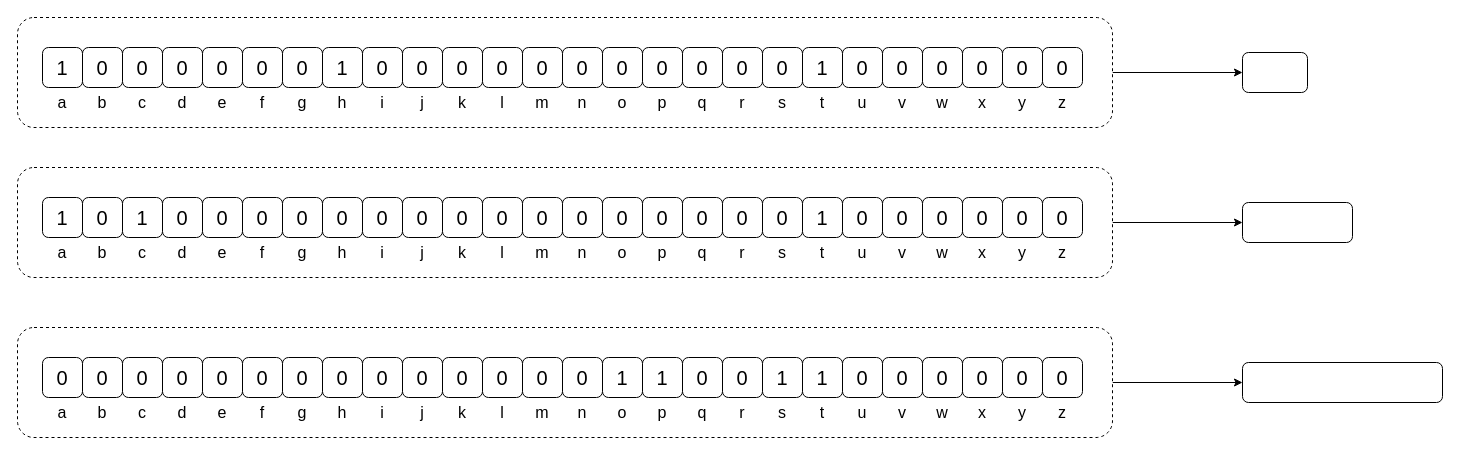
Image size: 1460x455. Some labels were removed from this diagram. The shapes that lost their labels are listed below. From the top down, each one's centre as x and y in pixels, then its label:
(x=1275, y=72): "hat"
(x=1297, y=222): "act", "cat"
(x=1342, y=382): "stop", "pots", "tops"
